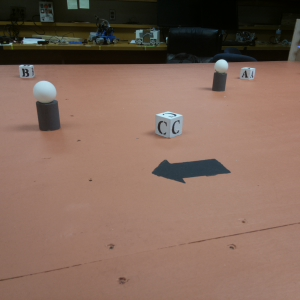blockA: (239, 67, 255, 80)
blockB: (19, 64, 35, 79)
blockC: (154, 111, 182, 138)
obstacle: (33, 80, 61, 132), (213, 59, 227, 93)
start: (149, 157, 231, 185)
